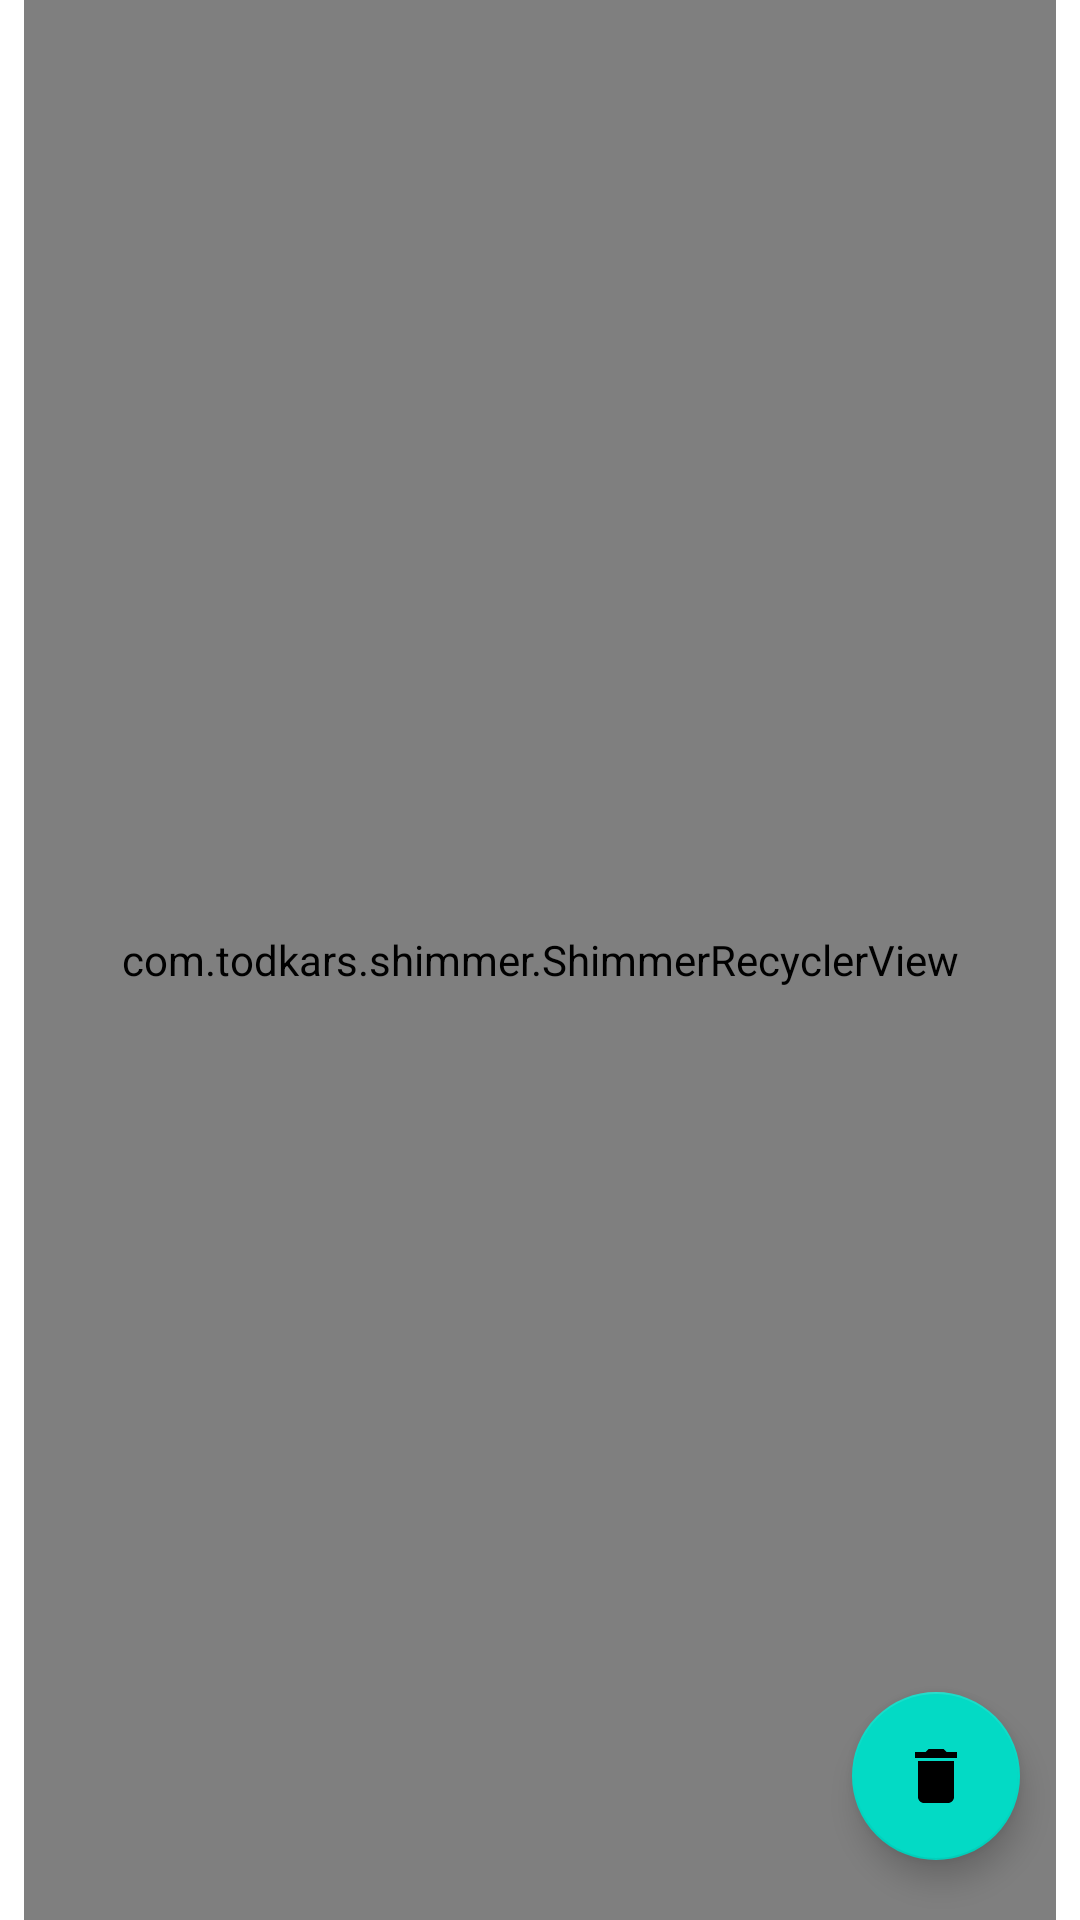

Where to tap for icons on this 1080×1920 app screen, as (x=x, y=y):
Clear cache: (x=936, y=1776)
